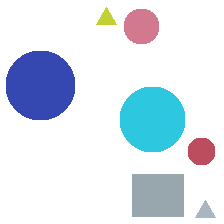circle: (6, 51, 74, 119), (120, 87, 184, 151), (124, 9, 158, 43), (188, 138, 214, 164)
rectangle: (132, 174, 183, 216)
triangle: (96, 7, 116, 24), (195, 200, 215, 217)
